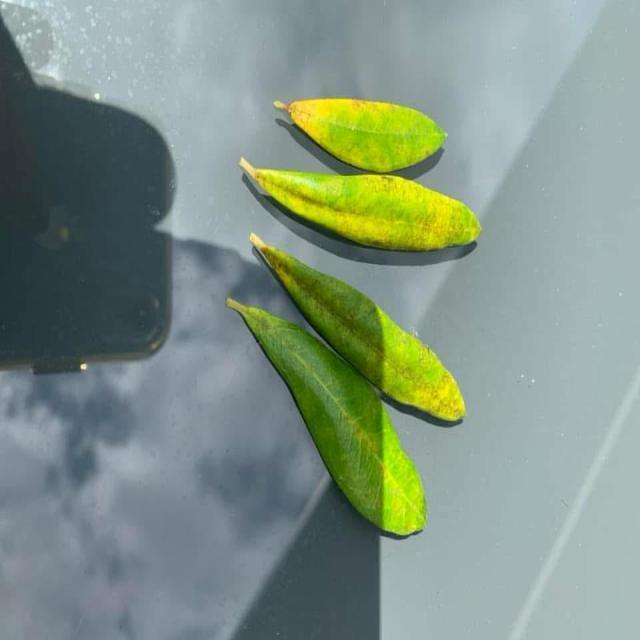OlivePeacockSpot: (250, 234, 465, 422), (239, 158, 480, 251), (274, 96, 446, 172)
